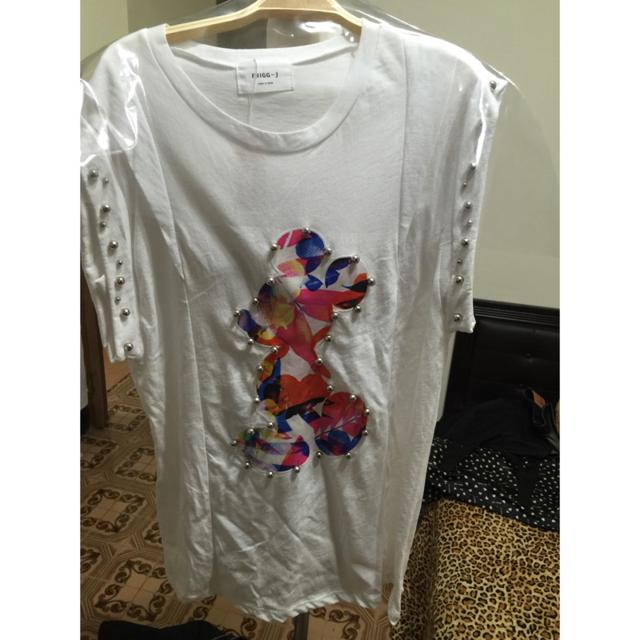Tops: (87, 18, 492, 622)
